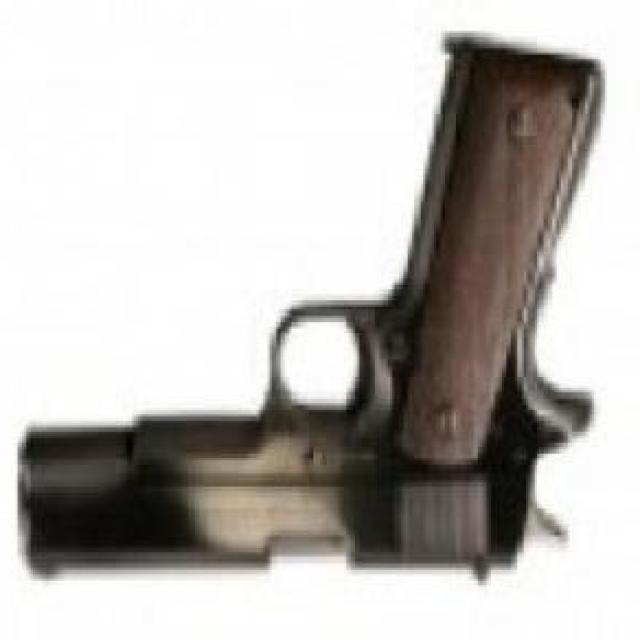pistol: (19, 42, 609, 602)
